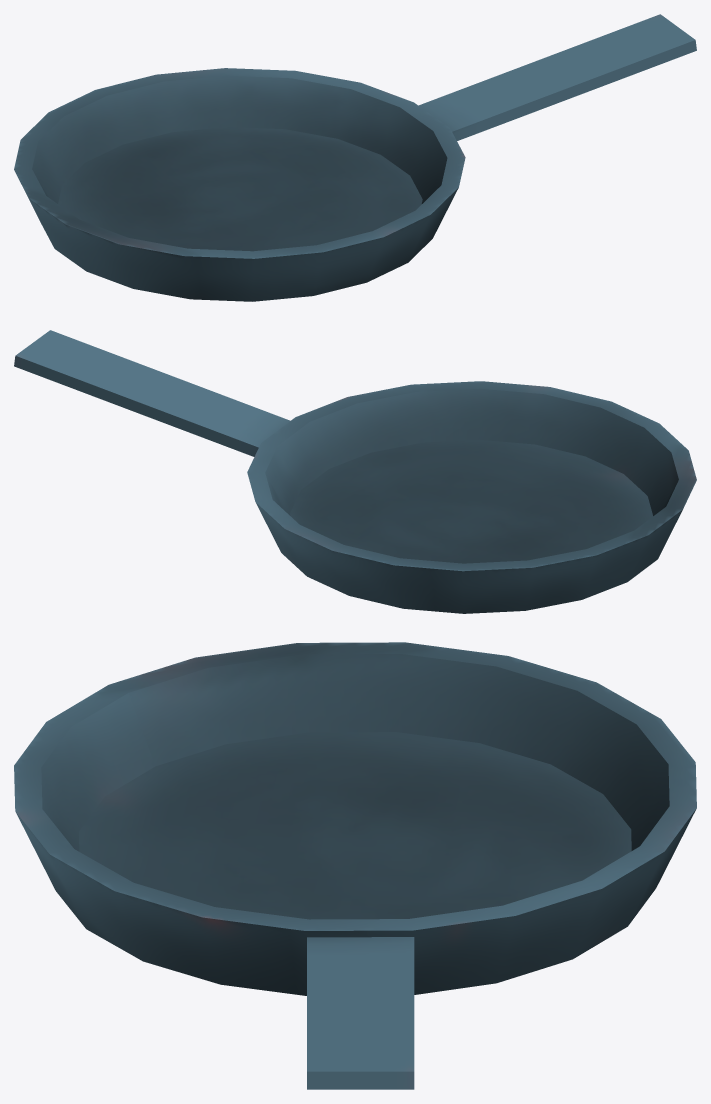
File: sarten.FBX
The picture shows the model from 3 angles, top to bottom: view 1: azimuth 30°, elevation 25°; view 2: azimuth 150°, elevation 25°; view 3: azimuth 270°, elevation 25°; orthographic projection. The views are drawn at different scales.
Parts seen in each view (by area): view 1: Cylinder058; view 2: Cylinder058; view 3: Cylinder058.
Part boxes in pixels (x1=…): Cylinder058: x1=14, y1=14, x2=696, y2=301; Cylinder058: x1=14, y1=330, x2=696, y2=613; Cylinder058: x1=14, y1=642, x2=696, y2=1089.
Size of the model in its own units: 2.8 by 0.3468 by 1.71.
Materials: 1 (1 with a texture image).
